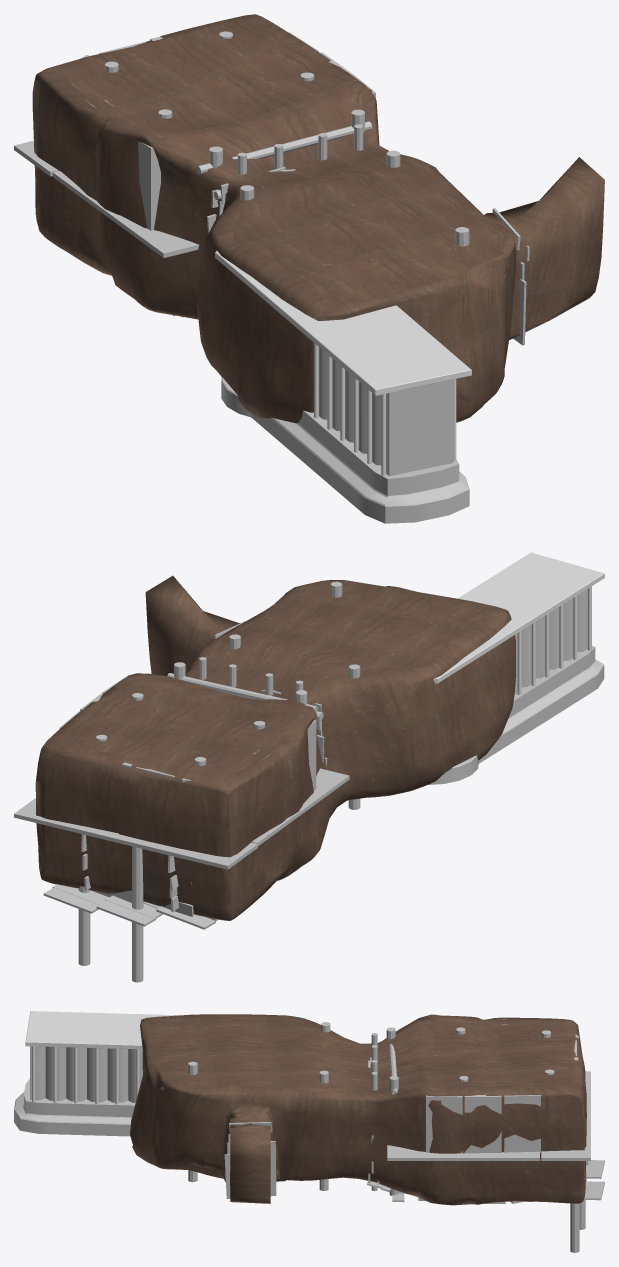
The model's file is Act3_Blockout.fbx.
The picture shows the model from 3 angles, top to bottom: view 1: azimuth 30°, elevation 25°; view 2: azimuth 150°, elevation 25°; view 3: azimuth 270°, elevation 25°; orthographic projection. The views are drawn at different scales.
Visible parts, largest first — view 1: Cave_Base, pasted__Engine_Base, pasted__Engine_Top, Room_Floor_01, BookCase_08, Pillar_Over_07; view 2: Cave_Base, pasted__Engine_Base, pasted__Engine_Top, Room_Floor_03, Pillar_14, Room_Floor_01, Pillar_Over_07, Pillar_15, pasted__Engine_Front, Plank_Floor_77, Plank_Floor_78; view 3: Cave_Base, pasted__Engine_Base, pasted__Engine_Top, Room_Floor_02, Room_Floor_03, BookCase_10, BookCase_11, BookCase_09, Pillar_15.
Part boxes in pixels (bbox=[...]): Cave_Base: bbox=[32, 14, 604, 423]; pasted__Engine_Base: bbox=[251, 347, 469, 523]; pasted__Engine_Top: bbox=[215, 250, 471, 395]; Room_Floor_01: bbox=[52, 170, 199, 257]; BookCase_08: bbox=[138, 142, 160, 230]; Pillar_Over_07: bbox=[196, 121, 372, 174]; Cave_Base: bbox=[35, 575, 515, 920]; pasted__Engine_Base: bbox=[479, 589, 604, 763]; pasted__Engine_Top: bbox=[433, 552, 604, 683]; Room_Floor_03: bbox=[14, 798, 257, 869]; Pillar_14: bbox=[132, 846, 143, 982]; Room_Floor_01: bbox=[252, 768, 349, 846]; Pillar_Over_07: bbox=[167, 673, 317, 712]; Pillar_15: bbox=[78, 886, 90, 965]; pasted__Engine_Front: bbox=[428, 755, 478, 784]; Plank_Floor_77: bbox=[96, 900, 156, 926]; Plank_Floor_78: bbox=[43, 887, 98, 913]; Cave_Base: bbox=[130, 1014, 586, 1205]; pasted__Engine_Base: bbox=[14, 1046, 142, 1136]; pasted__Engine_Top: bbox=[25, 1011, 178, 1049]; Room_Floor_02: bbox=[387, 1145, 539, 1160]; Room_Floor_03: bbox=[541, 1071, 590, 1160]; BookCase_10: bbox=[464, 1094, 501, 1153]; BookCase_11: bbox=[504, 1095, 540, 1152]; BookCase_09: bbox=[426, 1095, 462, 1153]; Pillar_15: bbox=[570, 1203, 579, 1252].
Size of the model in its own units: 24.56 by 16.19 by 48.18.
